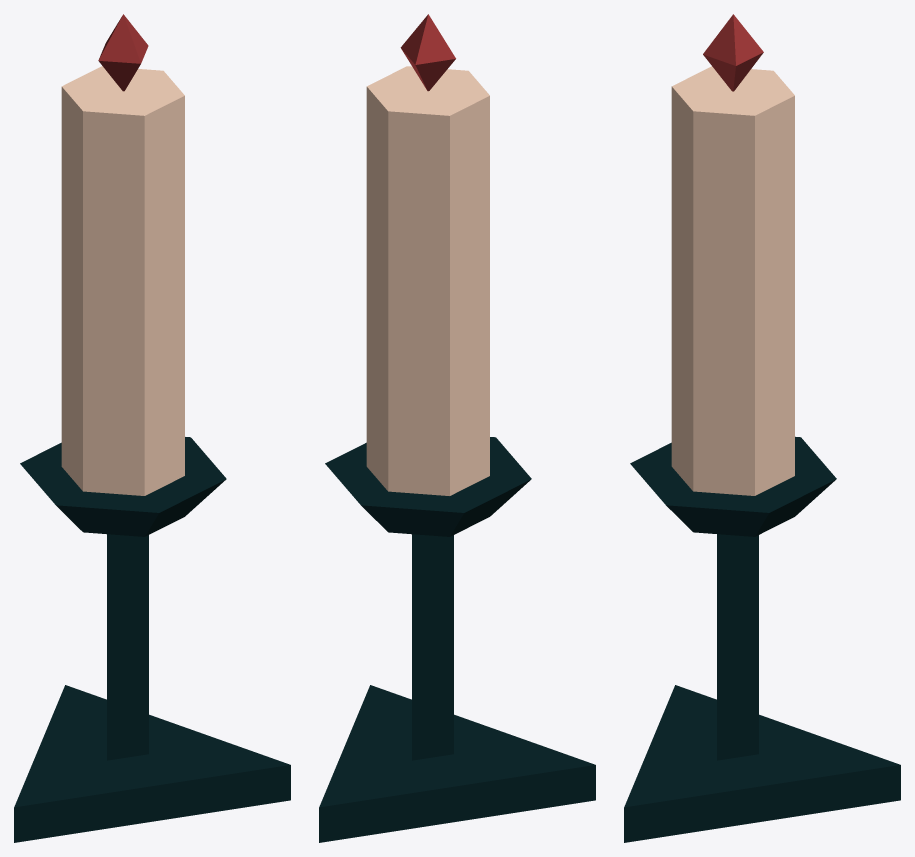
Rendered from CHANDELIER_SMALL.fbx.
3 renders of one model, left to right at view 1: azimuth 30°, elevation 25°; view 2: azimuth 150°, elevation 25°; view 3: azimuth 270°, elevation 25°, orthographic.
Visible parts, largest first — view 1: CANDLE_1, LEG_2, LEG, FAIR_1; view 2: CANDLE_1, LEG_2, LEG, FAIR_1; view 3: CANDLE_1, LEG_2, LEG, FAIR_1.
Part boxes in pixels (x1,y1,x2,y2): CANDLE_1: (61,66,184,495); LEG_2: (14,534,290,842); LEG: (20,437,226,536); FAIR_1: (98,14,148,91); CANDLE_1: (366,66,489,495); LEG_2: (319,534,595,842); LEG: (325,437,531,536); FAIR_1: (400,14,455,91); CANDLE_1: (671,66,794,495); LEG_2: (624,534,900,842); LEG: (630,436,836,536); FAIR_1: (703,14,763,91).
Size of the model in its own units: 15.97 by 47.01 by 15.23.
1 material, 1 textured.
